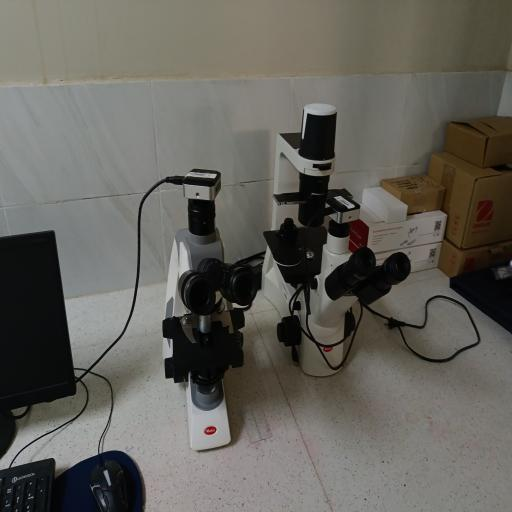Microscopio_camara: (256, 82, 416, 394), (142, 150, 264, 462)
